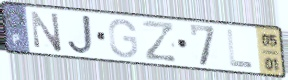7: (188, 23, 218, 68)
G: (107, 17, 140, 60)
J: (65, 13, 95, 56)
L: (225, 28, 256, 70)
N: (29, 9, 64, 54)
Z: (141, 19, 179, 64)
